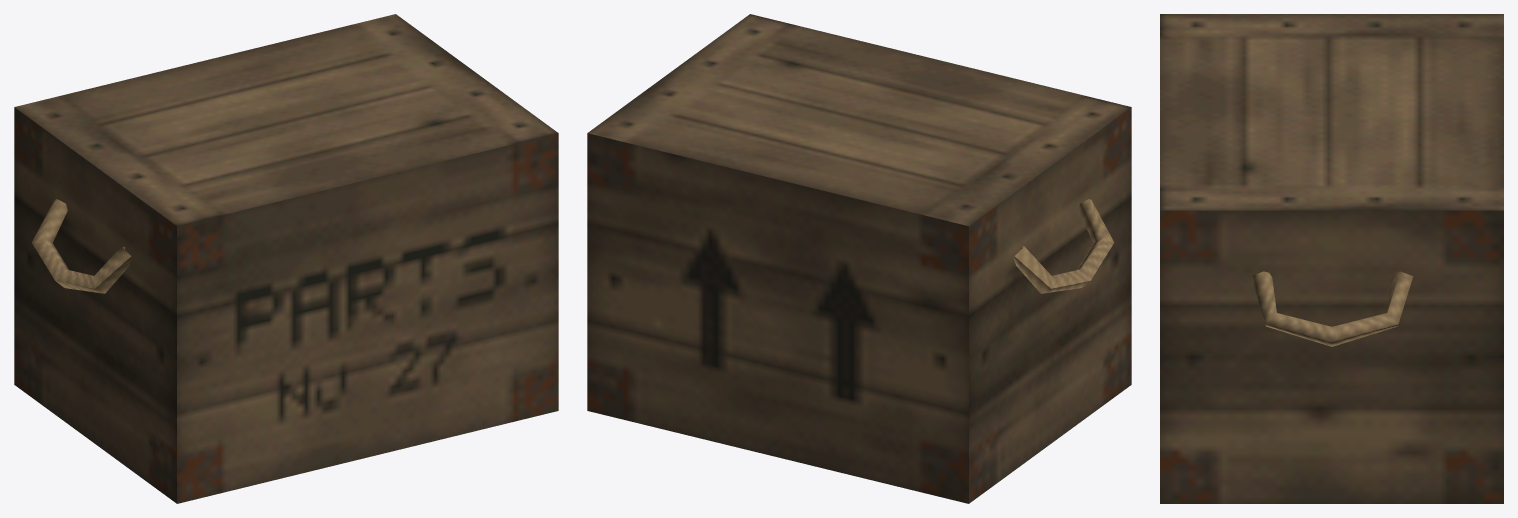
File: crate_wood_small.obj
3 renders of one model, left to right at view 1: azimuth 30°, elevation 25°; view 2: azimuth 150°, elevation 25°; view 3: azimuth 270°, elevation 25°, orthographic. The views are drawn at different scales.
Parts seen in each view (by area): view 1: crate_wood_small; view 2: crate_wood_small; view 3: crate_wood_small.
Part boxes in pixels (box(x1,y1,x2,y2)): crate_wood_small: box(14, 14, 558, 503); crate_wood_small: box(587, 14, 1131, 503); crate_wood_small: box(1160, 14, 1503, 503).
Bounding box in the file's own units: 0.558 × 0.32 × 0.34.
1 material, 1 textured.
